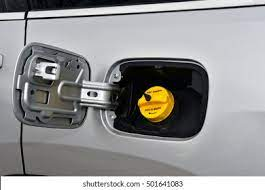open: (98, 53, 210, 144)
